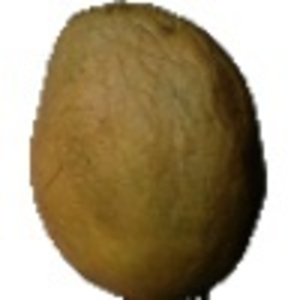mamão: (19, 2, 277, 293)
